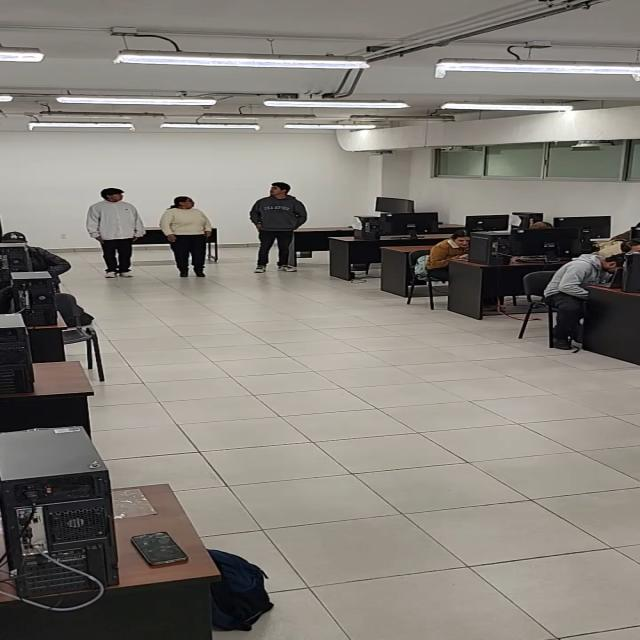Persona: (82, 184, 150, 282), (243, 179, 310, 277), (158, 193, 218, 282)
